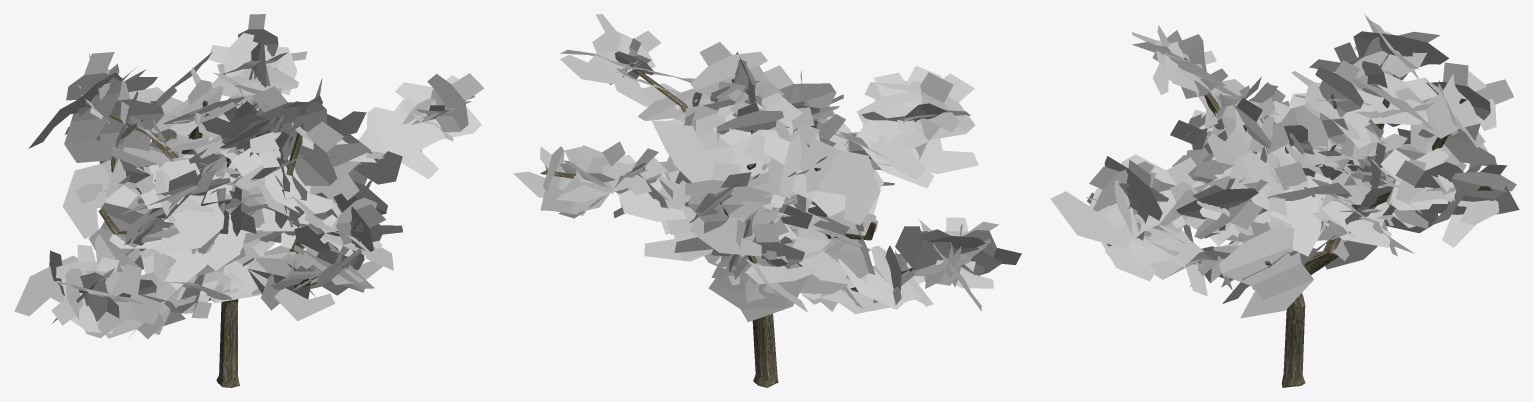
The model's file is Tree04.fbx.
3 renders of one model, left to right at view 1: azimuth 30°, elevation 25°; view 2: azimuth 150°, elevation 25°; view 3: azimuth 270°, elevation 25°, orthographic. The views are drawn at different scales.
Visible parts, largest first — view 1: arbol003.007; view 2: arbol003.007; view 3: arbol003.007.
Boxes of the visible parts, left/top/right/bottom form: arbol003.007: left=14, top=14, right=484, bottom=387; arbol003.007: left=513, top=14, right=1021, bottom=387; arbol003.007: left=1050, top=14, right=1519, bottom=387.
Size of the model in its own units: 31.47 by 20.79 by 27.36.
